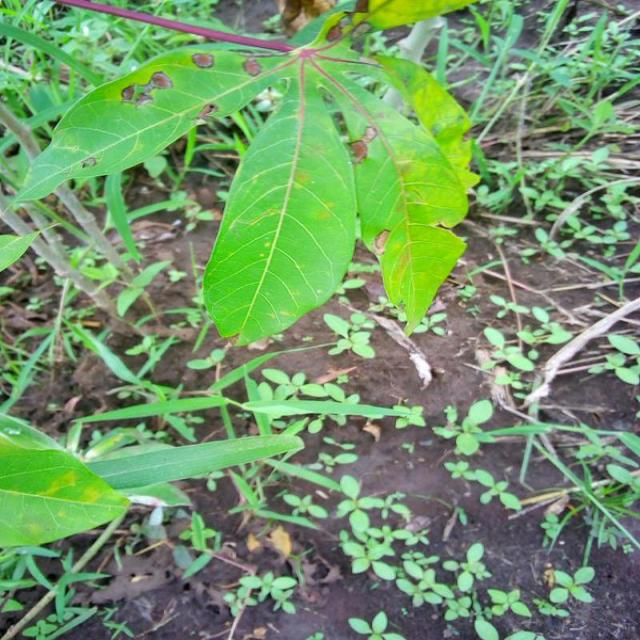cassava leaf: (12, 3, 479, 346), (200, 61, 358, 346), (0, 411, 131, 548)
